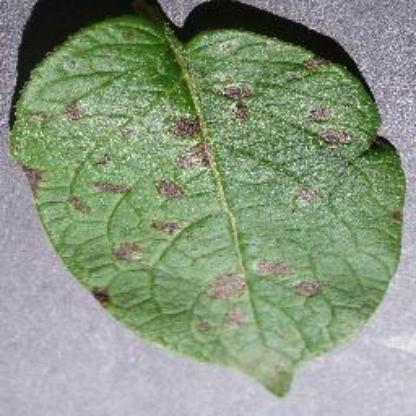Early-Blight: (14, 12, 406, 398)
